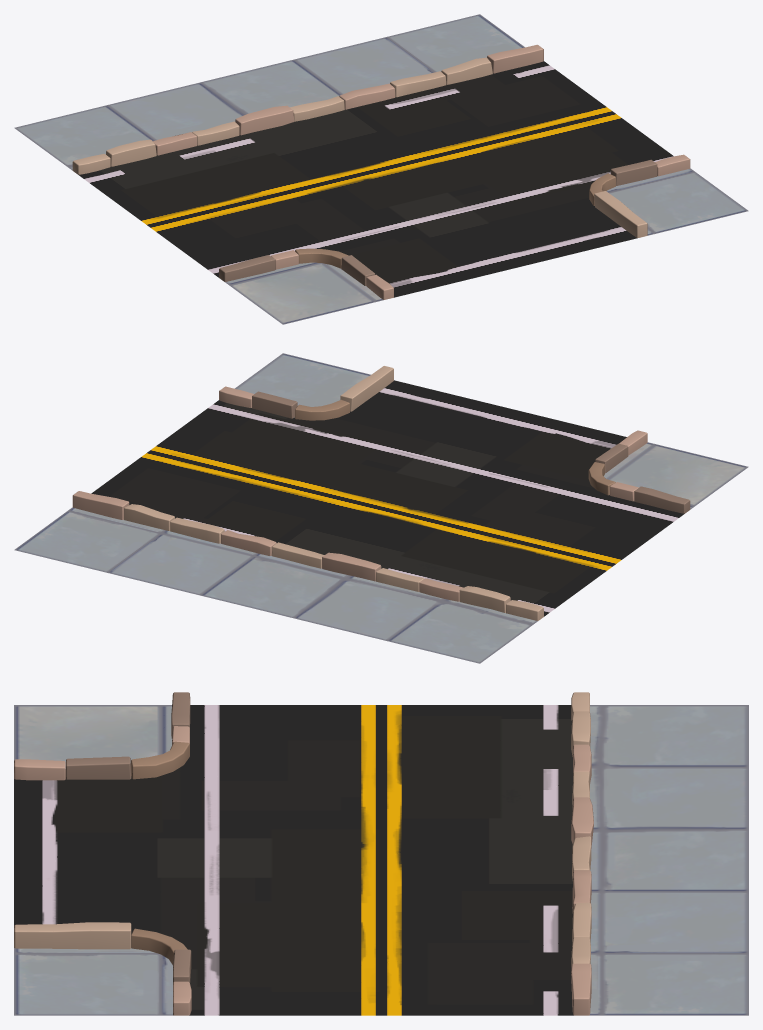
The model's file is CityRoad_tripleCrossroadNarrow.fbx.
3 views of the same model, one above another, from view 1: azimuth 30°, elevation 25°; view 2: azimuth 150°, elevation 25°; view 3: azimuth 270°, elevation 25° (orthographic). The views are drawn at different scales.
Visible parts, largest first — view 1: CityRoad_tripleCrossroadNarrow_mesh; view 2: CityRoad_tripleCrossroadNarrow_mesh; view 3: CityRoad_tripleCrossroadNarrow_mesh.
Part boxes in pixels (left/top/right/bottom): CityRoad_tripleCrossroadNarrow_mesh: left=14, top=14, right=748, bottom=324; CityRoad_tripleCrossroadNarrow_mesh: left=14, top=353, right=748, bottom=663; CityRoad_tripleCrossroadNarrow_mesh: left=14, top=692, right=748, bottom=1015.
Bounding box in the file's own units: 1000 × 28.55 × 1000.
